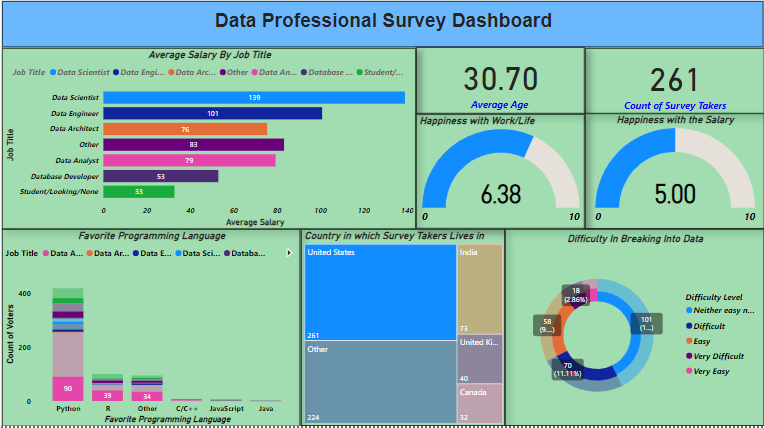

What the dashboard file says about the page in this screenshot:
{"tool":"powerbi","page":{"name":"Page 1","canvas":[1280,720],"ordinal":0},"visuals":[{"type":"textbox","box":[10.5,11,1269.5,77.3],"z":0},{"type":"card","fields":{"Values":["Count(Data Professional Survey.Unique ID)"]},"box":[981.5,89.4,298.5,110.8],"z":1000},{"type":"card","fields":{"Values":["Avg(Data Professional Survey.Q10 - Current Age)"]},"box":[700.8,87.6,280.7,110.8],"z":2000},{"type":"barChart","title":"Average Salary By Job Title","fields":{"Category":["Data Professional Survey.Q1 - Which Title Best Fits your Current Role?.1"],"Y":["Avg(Data Professional Survey.Average Salary)"],"Series":["Data Professional Survey.Q1 - Which Title Best Fits your Current Role?.1"]},"box":[10.7,89.4,690.1,302.1],"z":3000},{"type":"columnChart","title":"Favorite Programming Language","fields":{"Category":["Data Professional Survey.Q5 - Favorite Programming Language.1"],"Y":["Count(Data Professional Survey.Unique ID)"],"Series":["Data Professional Survey.Q1 - Which Title Best Fits your Current Role?.1"]},"box":[10.7,391.5,497,328.9],"z":4000},{"type":"treemap","title":"Country in which Survey Takers Lives in ","fields":{"Values":["CountNonNull(Data Professional Survey.Q11 - Which Country do you live in?.1)"],"Group":["Data Professional Survey.Q11 - Which Country do you live in?.1"]},"box":[508,392,340,328],"z":5000},{"type":"gauge","title":"Happiness with the Salary","fields":{"Y":["Avg(Data Professional Survey.Q6 - How Happy are you in your Current Position with the following? (Salary))"],"MinValue":["Min(Data Professional Survey.Q6 - How Happy are you in your Current Position with the following? (Salary))"],"MaxValue":["Max(Data Professional Survey.Q6 - How Happy are you in your Current Position with the following? (Salary))"]},"box":[981.5,198.4,298.5,193.1],"z":6000},{"type":"gauge","title":"Happiness with Work/Life","fields":{"Y":["Avg(Data Professional Survey.Q6 - How Happy are you in your Current Position with the following? (Work/Life Balance))"],"MinValue":["Min(Data Professional Survey.Q6 - How Happy are you in your Current Position with the following? (Work/Life Balance))"],"MaxValue":["Max(Data Professional Survey.Q6 - How Happy are you in your Current Position with the following? (Work/Life Balance))1"]},"box":[700.8,200.2,280.7,191.3],"z":7000},{"type":"donutChart","title":"Difficulty In Breaking Into Data","fields":{"Category":["Data Professional Survey.Q7 - How difficult was it for you to break into Data?"],"Y":["CountNonNull(Data Professional Survey.Q7 - How difficult was it for you to break into Data?)"]},"box":[848,392,432,328],"z":8000}]}

Visuals, with their boxes in screenshot pixels (x1, y1, x2, y2), scaled from the page's 1280x720 canvas onto the 764x428 screenshot:
textbox: x1=6, y1=7, x2=763, y2=52
card - Count(Data Professional Survey.Unique ID): x1=586, y1=53, x2=763, y2=119
card - Avg(Data Professional Survey.Q10 - Current Age): x1=418, y1=52, x2=586, y2=118
"Average Salary By Job Title" barChart: x1=6, y1=53, x2=418, y2=233
"Favorite Programming Language" columnChart: x1=6, y1=233, x2=303, y2=427
"Country in which Survey Takers Lives in " treemap: x1=303, y1=233, x2=506, y2=427
"Happiness with the Salary" gauge: x1=586, y1=118, x2=763, y2=233
"Happiness with Work/Life" gauge: x1=418, y1=119, x2=586, y2=233
"Difficulty In Breaking Into Data" donutChart: x1=506, y1=233, x2=763, y2=427
